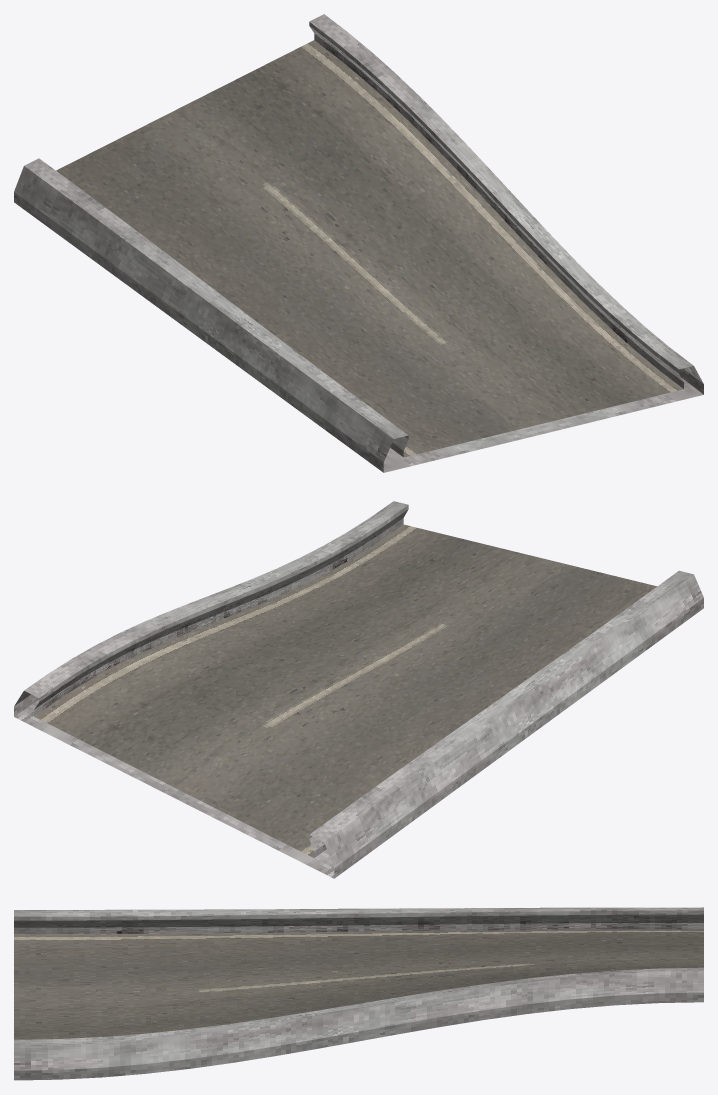
File: road-Straight-Flat-HalfBankedLeft-Even-Center-Size2.glb
3 views of the same model, one above another, from view 1: azimuth 30°, elevation 25°; view 2: azimuth 150°, elevation 25°; view 3: azimuth 270°, elevation 25° (orthographic). The views are drawn at different scales.
Parts seen in each view (by area): view 1: road-Straight-Flat-HalfBankedLeft-Even-Center-Size2; view 2: road-Straight-Flat-HalfBankedLeft-Even-Center-Size2; view 3: road-Straight-Flat-HalfBankedLeft-Even-Center-Size2.
Part boxes in pixels (<box>): road-Straight-Flat-HalfBankedLeft-Even-Center-Size2: <box>14,14,703,472</box>; road-Straight-Flat-HalfBankedLeft-Even-Center-Size2: <box>14,501,703,878</box>; road-Straight-Flat-HalfBankedLeft-Even-Center-Size2: <box>14,907,703,1080</box>.
Bounding box in the file's own units: 1 × 0.3359 × 2.
Materials: 2 (2 with a texture image).
